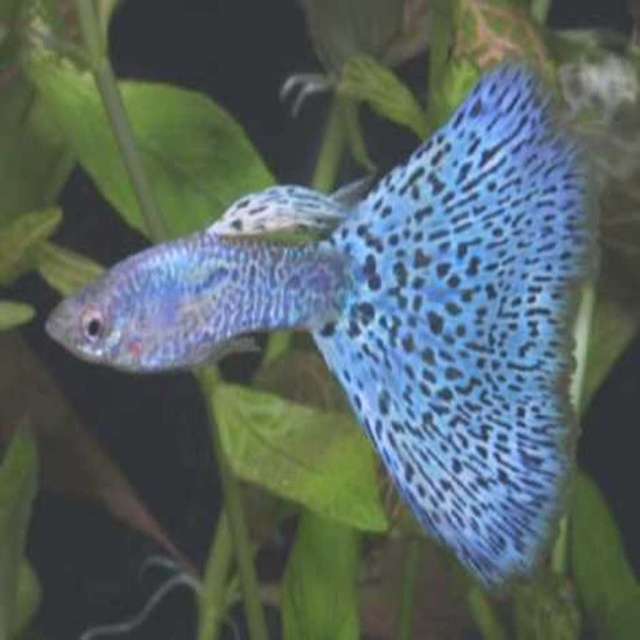Fish: (46, 49, 620, 587)
